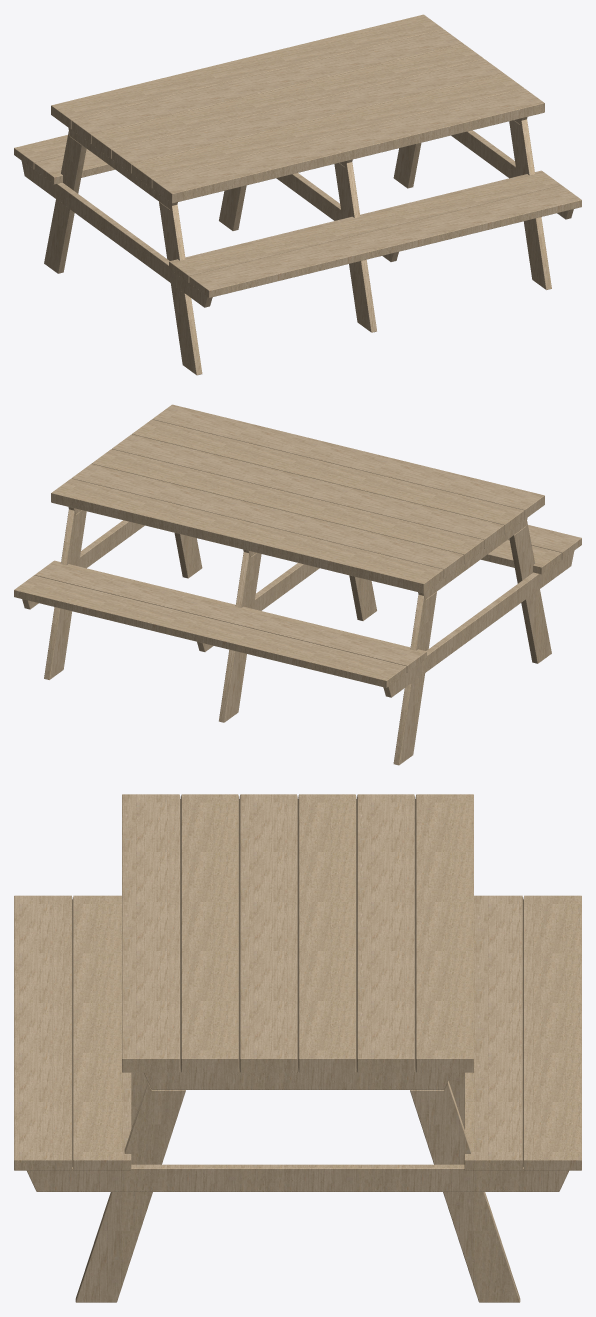
Rendered from mesa.obj.
The picture shows the model from 3 angles, top to bottom: view 1: azimuth 30°, elevation 25°; view 2: azimuth 150°, elevation 25°; view 3: azimuth 270°, elevation 25°; orthographic projection. The views are drawn at different scales.
Visible parts, largest first — view 1: wood_bench1:Rectangle073; view 2: wood_bench1:Rectangle073; view 3: wood_bench1:Rectangle073.
Boxes of the visible parts, x1=… form: wood_bench1:Rectangle073: x1=14, y1=14, x2=581, y2=375; wood_bench1:Rectangle073: x1=14, y1=404, x2=581, y2=765; wood_bench1:Rectangle073: x1=14, y1=794, x2=581, y2=1302.
Size of the model in its own units: 2.97 by 1.31 by 2.69.
1 material, 1 textured.
